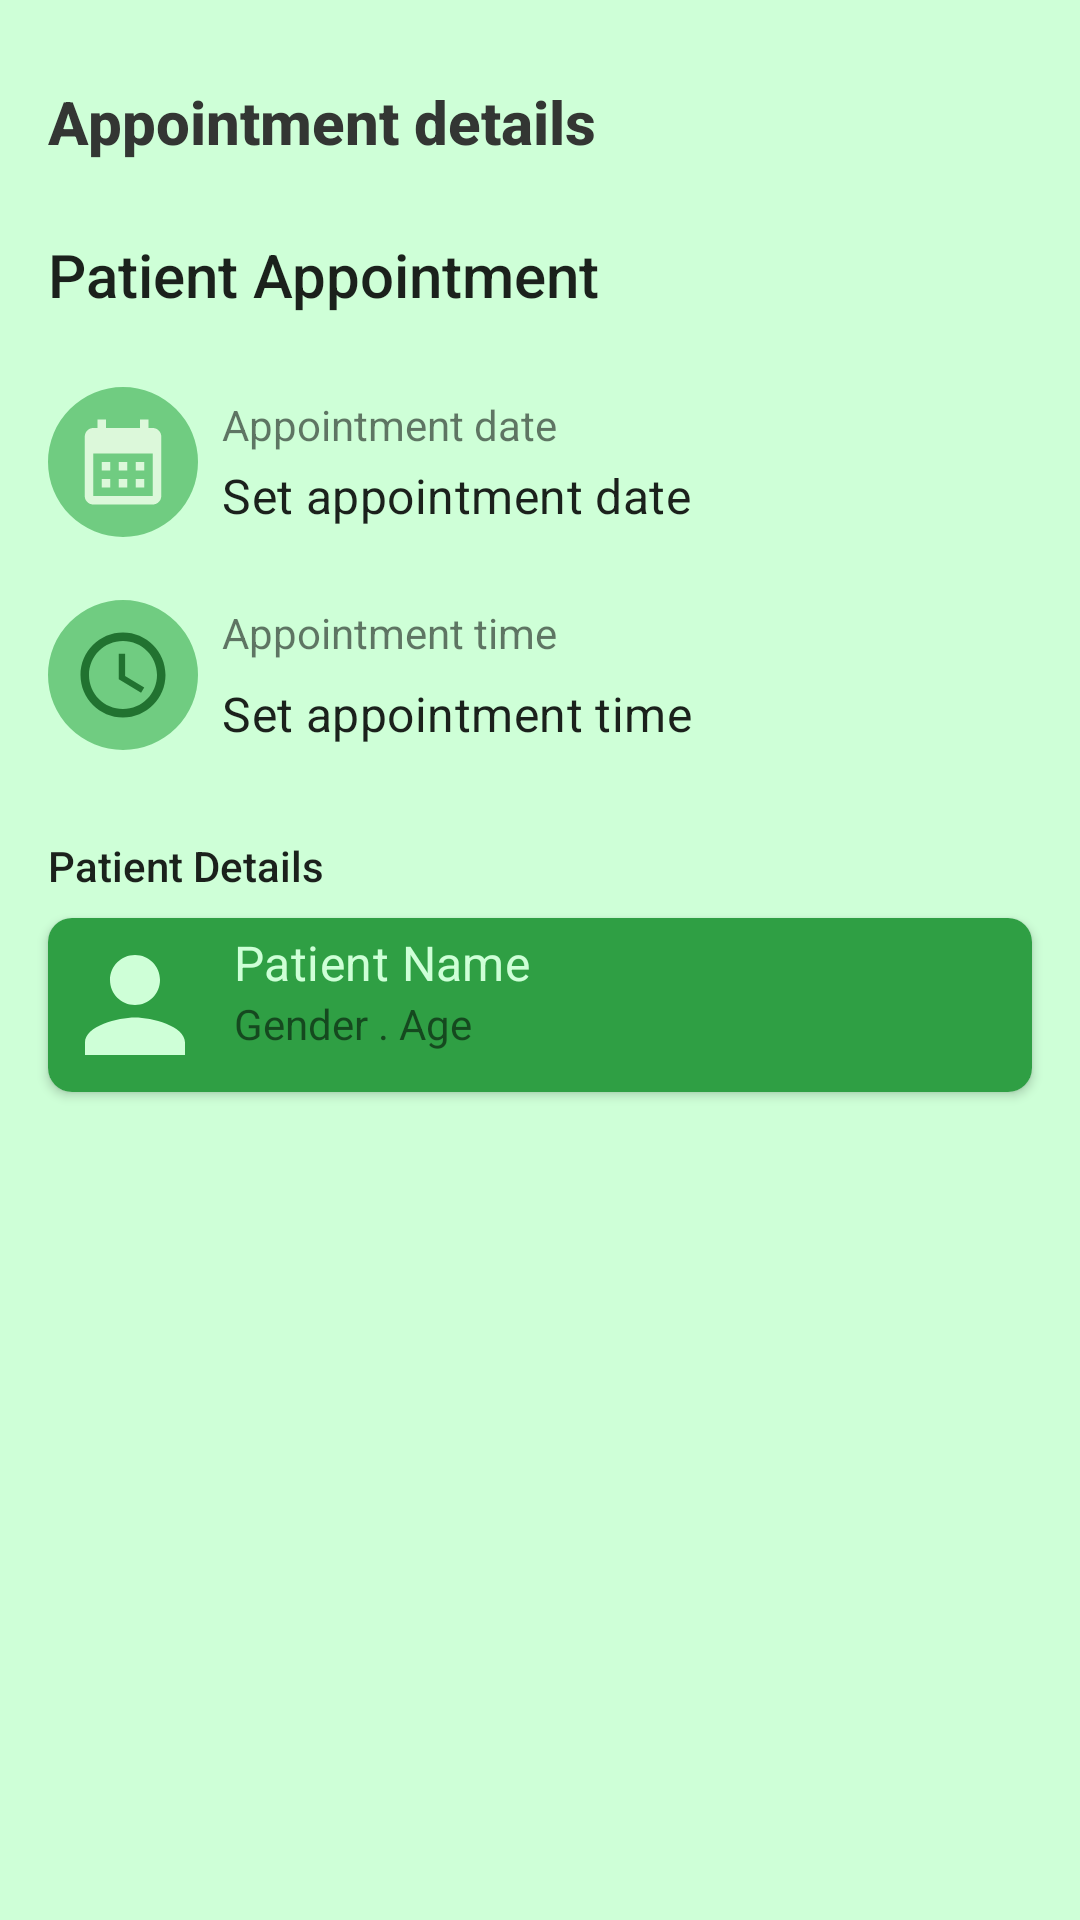

Locate icon controls on the screen. Image size 1080x1920, boxes as (x1, y1, x2, y2).
access time: (48, 600, 198, 750)
calendar month: (48, 387, 198, 537)
person: (85, 955, 185, 1055)
